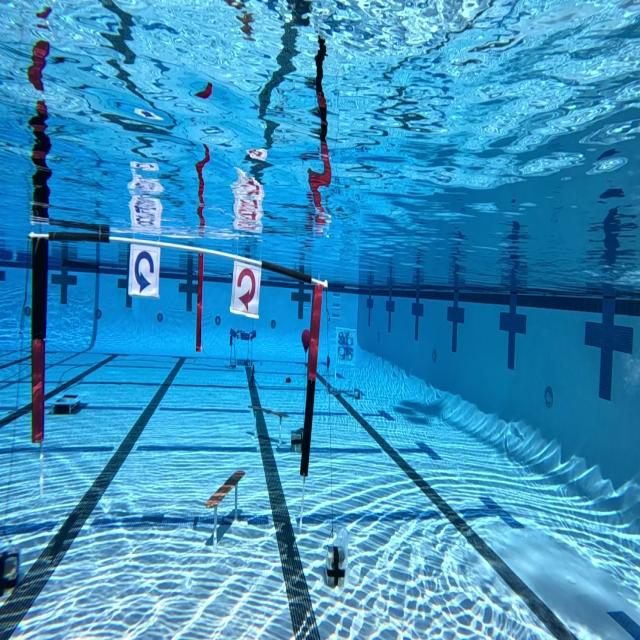blue_side: (127, 237, 161, 298)
red_side: (231, 256, 262, 320)
